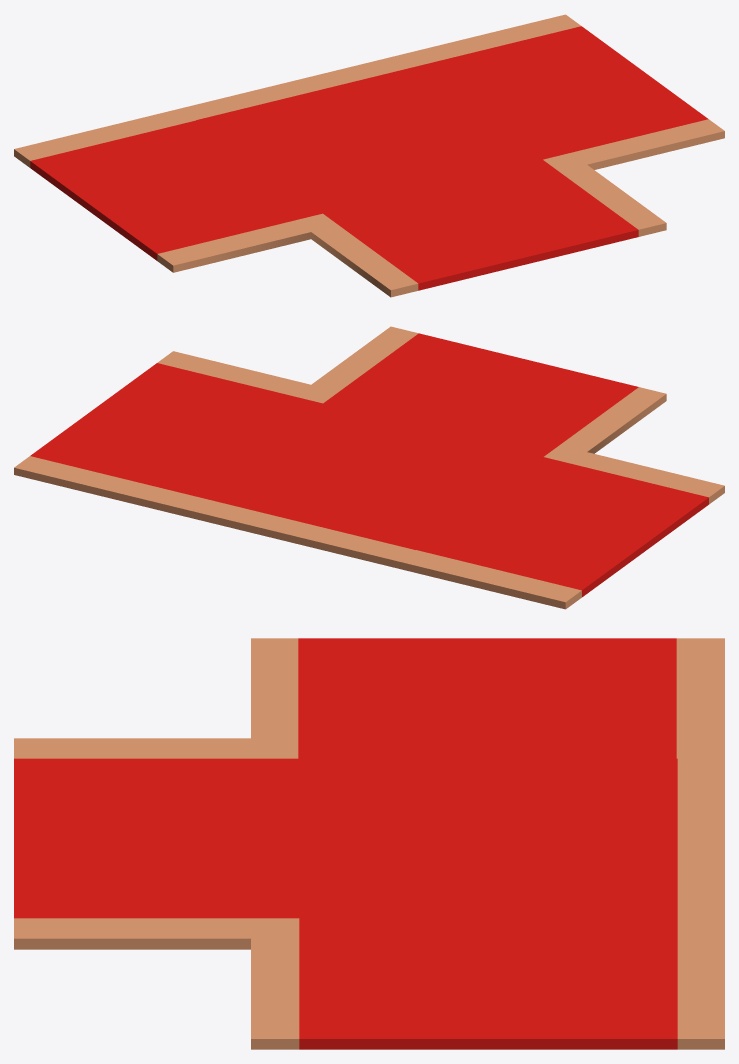
File: carpet-corner-3.fbx
3 views of the same model, one above another, from view 1: azimuth 30°, elevation 25°; view 2: azimuth 150°, elevation 25°; view 3: azimuth 270°, elevation 25° (orthographic). The views are drawn at different scales.
Visible parts, largest first — view 1: carpet-corner-3; view 2: carpet-corner-3; view 3: carpet-corner-3.
Boxes of the visible parts, left/top/right/bottom form: carpet-corner-3: left=14, top=14, right=724, bottom=297; carpet-corner-3: left=14, top=326, right=724, bottom=609; carpet-corner-3: left=14, top=638, right=724, bottom=1049.
Bounding box in the file's own units: 400 × 5 × 300.
